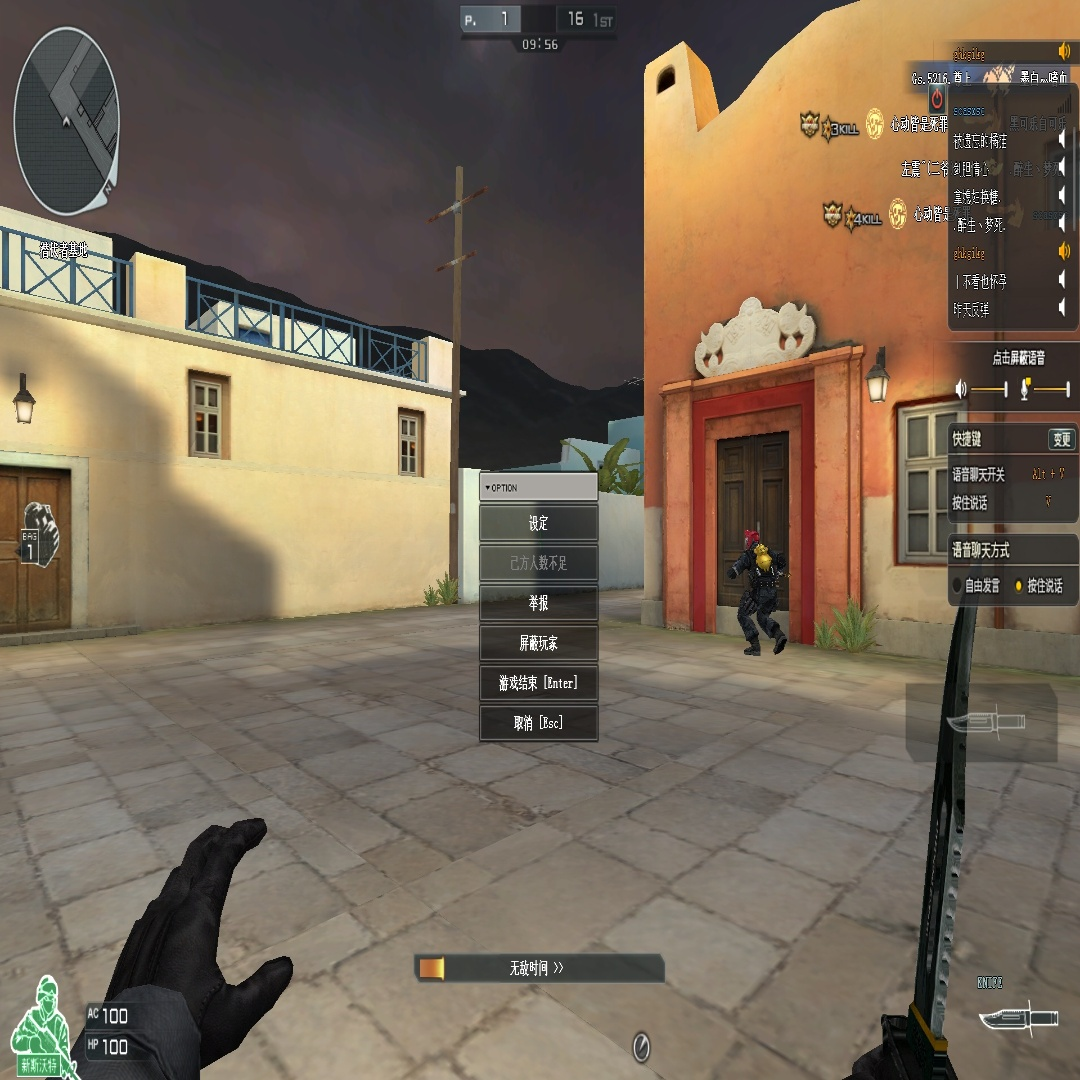head: (743, 529, 760, 551)
p: (728, 523, 788, 657)
